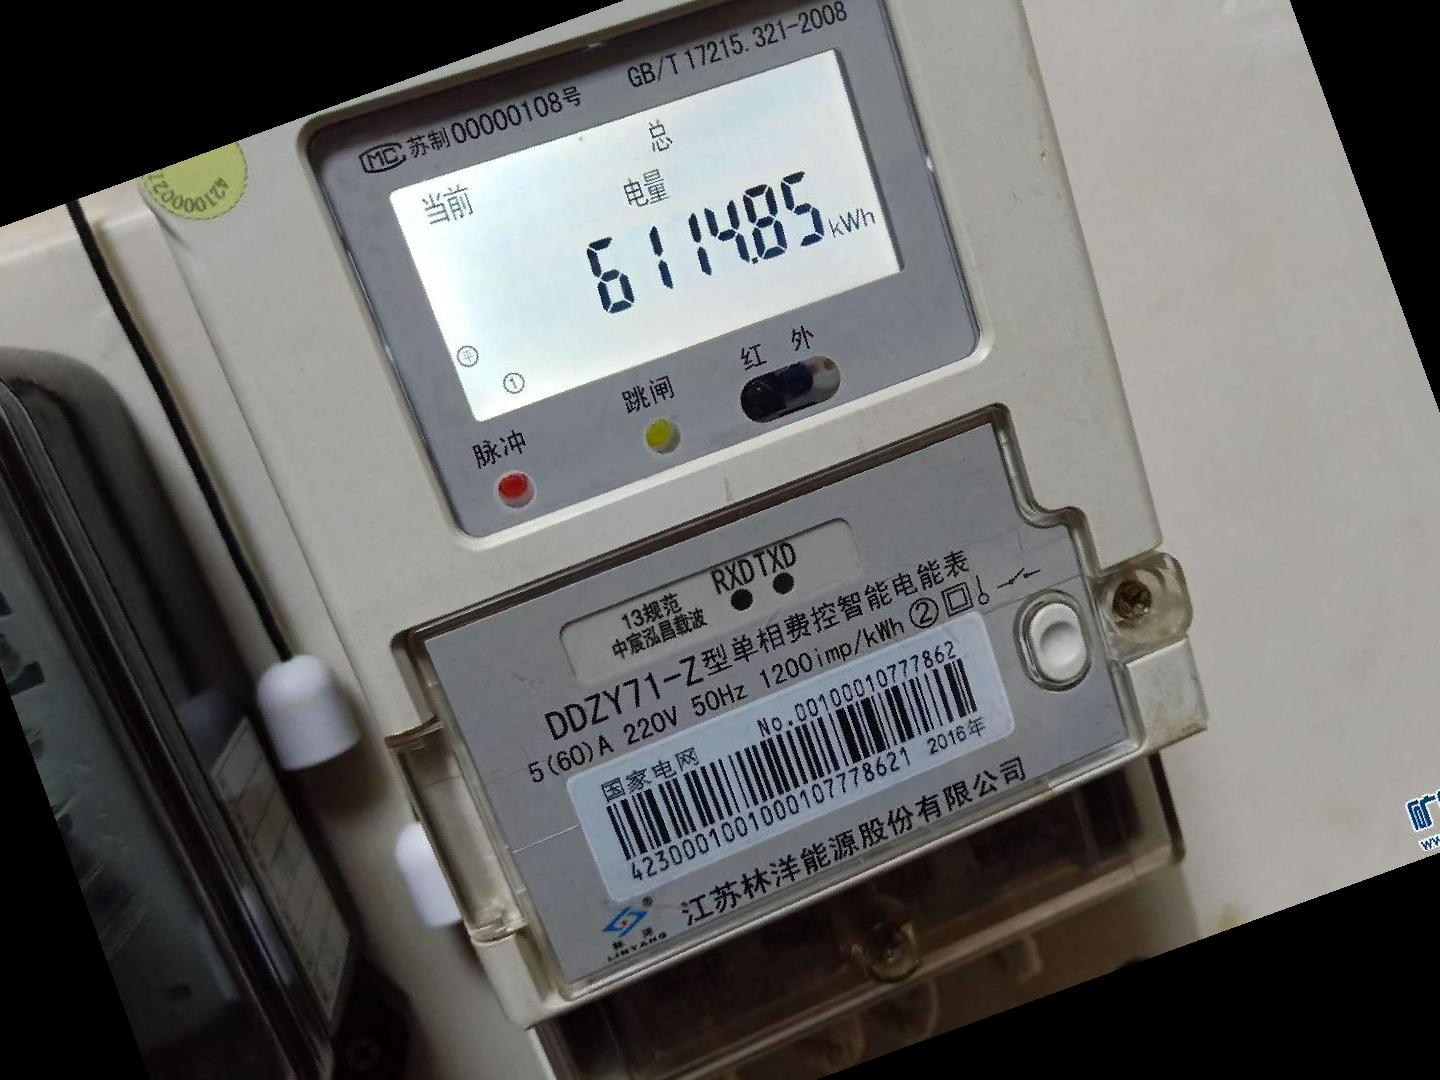digital: (158, 1, 1206, 1031)
